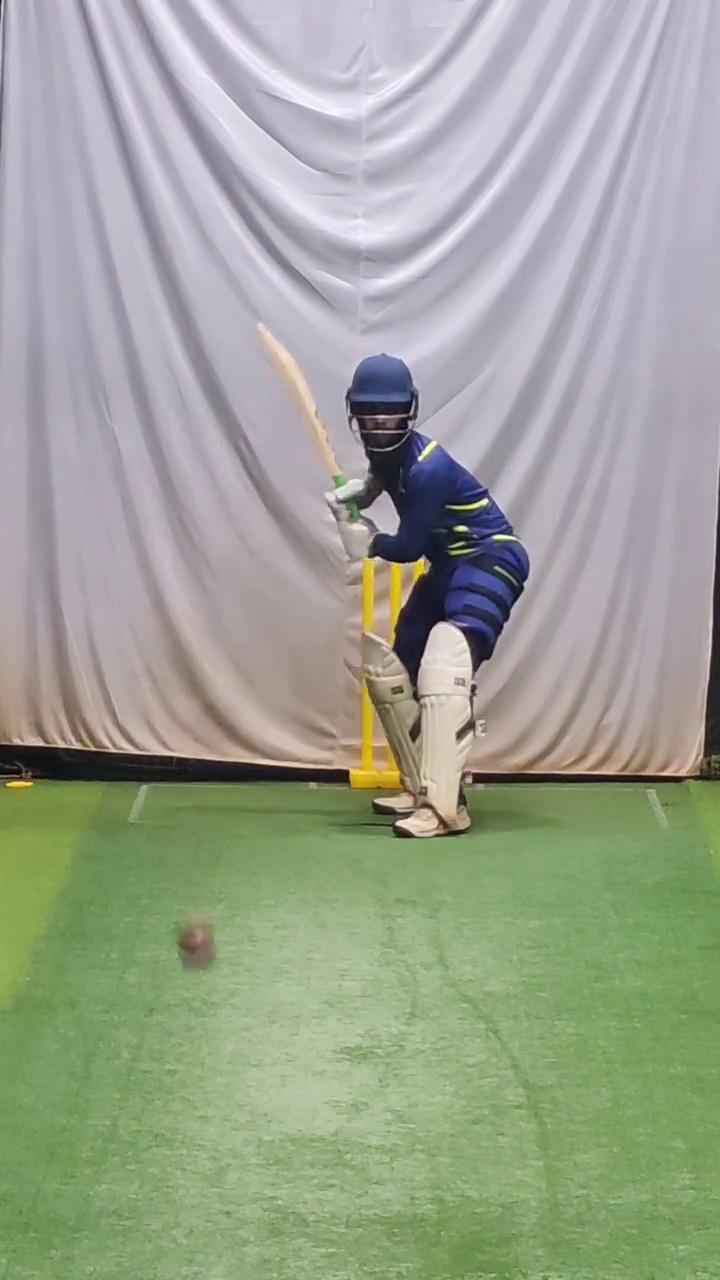bat: (250, 311, 353, 480)
